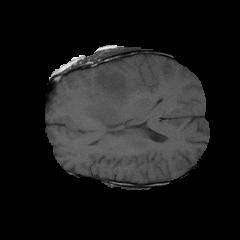glioma: (65, 66, 133, 136)
